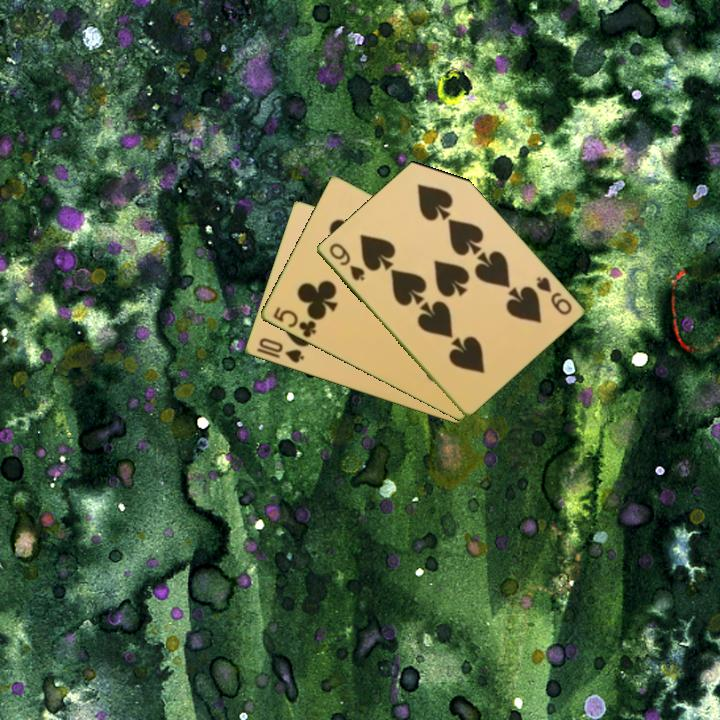10s: (255, 334, 307, 366)
5c: (269, 303, 319, 341)
9s: (532, 273, 575, 318), (325, 239, 367, 284)
